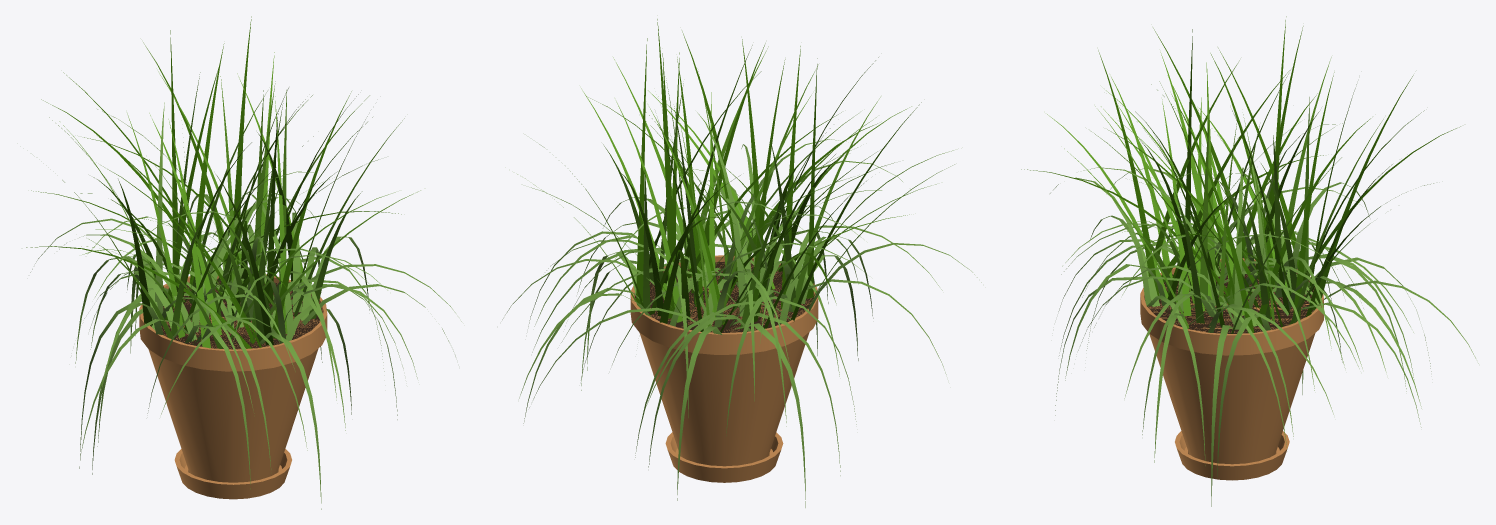
File: Potted Plant.dae
3 renders of one model, left to right at view 1: azimuth 30°, elevation 25°; view 2: azimuth 150°, elevation 25°; view 3: azimuth 270°, elevation 25°, orthographic. The views are drawn at different scales.
Parts seen in each view (by area): view 1: Pot (×3), group_7 (×11), group_1 (×9), group_5 (×5), Water_Collector, group_3 (×3); view 2: Pot (×3), group_7 (×12), group_1 (×8), group_5 (×4), Water_Collector, group_3 (×2); view 3: Pot (×3), group_7 (×15), group_1 (×12), group_5 (×5), Water_Collector, group_3 (×3).
Part boxes in pixels (x1,y1,x2,y2): Pot (×3): (139, 274, 327, 482); group_7 (×11): (26, 16, 351, 348); group_1 (×9): (127, 52, 362, 348); group_5 (×5): (90, 270, 351, 509); Water_Collector: (174, 449, 291, 499); group_3 (×3): (59, 102, 285, 346); Pot (×3): (630, 255, 818, 466); group_7 (×12): (618, 38, 921, 323); group_1 (×8): (616, 92, 880, 328); group_5 (×4): (648, 289, 805, 507); Water_Collector: (665, 432, 783, 482); group_3 (×2): (697, 112, 790, 367); Pot (×3): (1140, 258, 1323, 464); group_7 (×15): (1098, 26, 1413, 333); group_1 (×12): (1047, 57, 1383, 323); group_5 (×5): (1065, 264, 1293, 506); Water_Collector: (1175, 431, 1289, 480); group_3 (×3): (1050, 167, 1243, 462).
Bounding box in the file's own units: 29.79 × 31.42 × 29.73.
